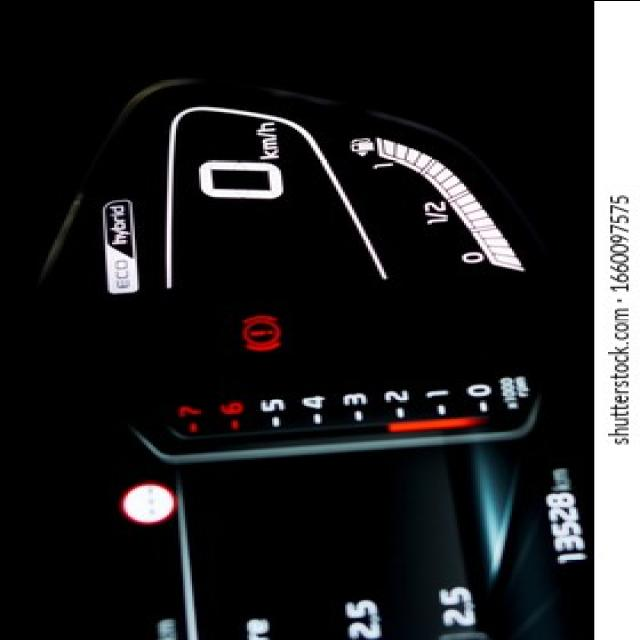Braking System Issue: (238, 312, 284, 352)
